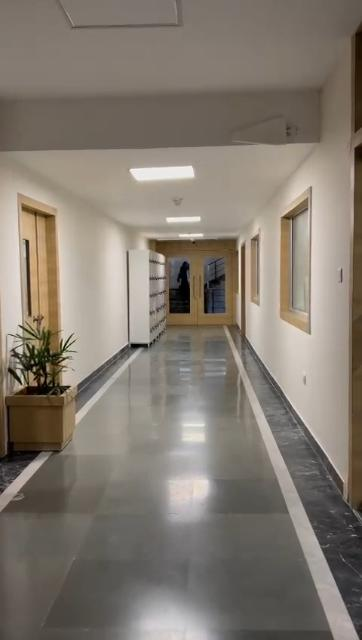door: (164, 239, 246, 329), (19, 195, 61, 329)
floor: (0, 327, 361, 640)
object: (2, 326, 80, 454)
wall: (69, 195, 127, 355), (314, 157, 342, 447), (257, 204, 285, 358)
